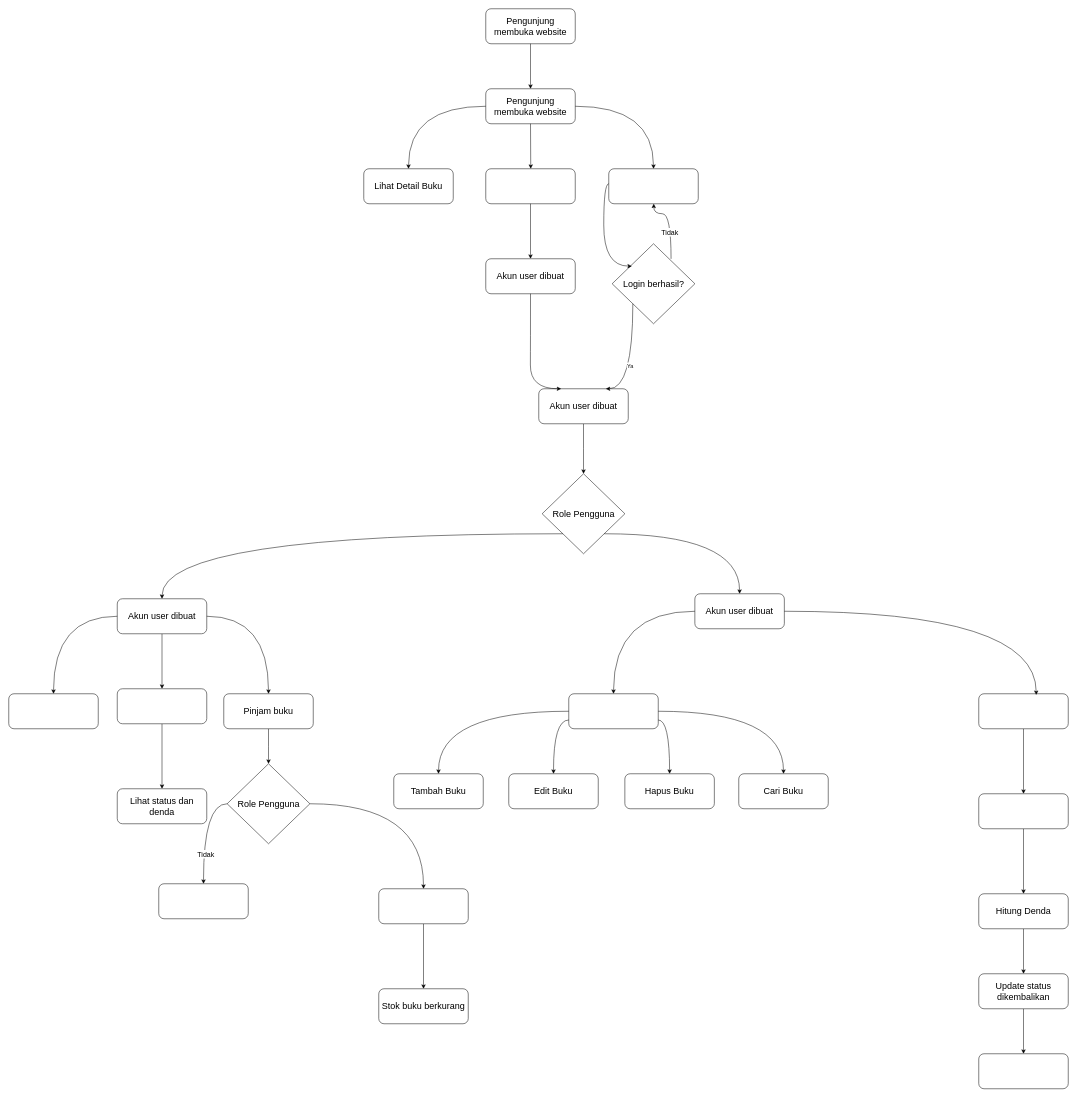
Some shapes in this 1077 by 1098 pixel diagram are drawn without their labels. The shapes that lost their labels are listed below. From the top down, each one's box as (x1, y1, x2, y2) in pixels, then its label:
(485, 168, 575, 204): Register
(608, 168, 698, 204): Login
(8, 693, 98, 729): Lihat daftar buku
(117, 688, 207, 724): Lihat riwayat peminjama
(568, 693, 658, 729): Kelola Buku
(978, 693, 1068, 729): Kelola Peminjaman
(978, 793, 1068, 829): Konfirmasi Pengembalian
(158, 883, 248, 919): Pinjam gagal
(378, 888, 468, 924): Simpan Pinjaman
(978, 1053, 1068, 1089): Stok buku bertambah
